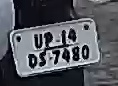0: (81, 43, 90, 62)
1: (59, 29, 68, 47)
4: (67, 28, 78, 44), (61, 47, 72, 63)
7: (51, 48, 61, 66)
8: (72, 45, 81, 64)
D: (25, 52, 39, 69)
P: (42, 30, 55, 49)
S: (38, 50, 48, 68)
U: (31, 31, 43, 49)
